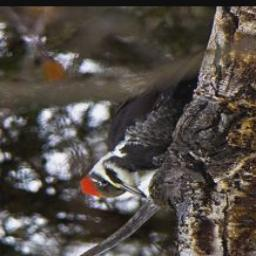Woodpecker: (74, 69, 196, 201)
